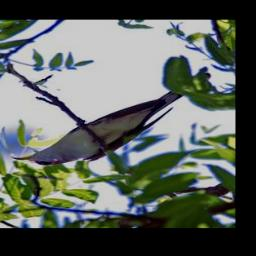Cuckoo: (12, 73, 212, 167)
